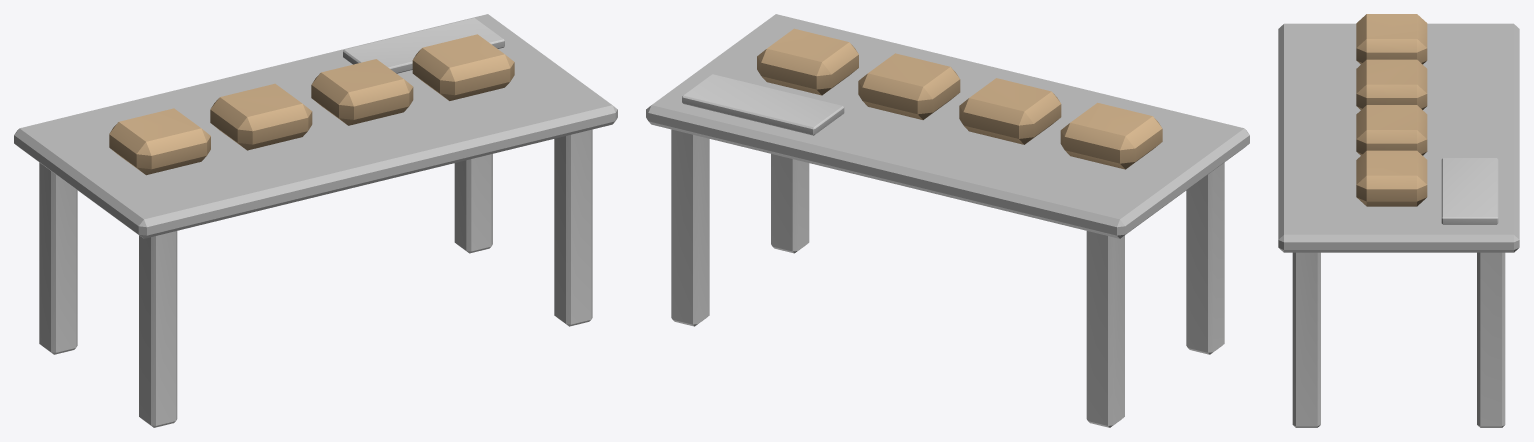
File: kitchen_table.glb
3 views of the same model, side by side, from view 1: azimuth 30°, elevation 25°; view 2: azimuth 150°, elevation 25°; view 3: azimuth 270°, elevation 25° (orthographic). The views are drawn at different scales.
Parts seen in each view (by area): view 1: bread; view 2: bread; view 3: bread.
Boxes of the visible parts, x1,y1,x2,y2 form: bread: [14, 14, 617, 427]; bread: [646, 14, 1249, 427]; bread: [1278, 14, 1519, 427].
Bounding box in the file's own units: 1.8 × 0.9 × 0.85.
